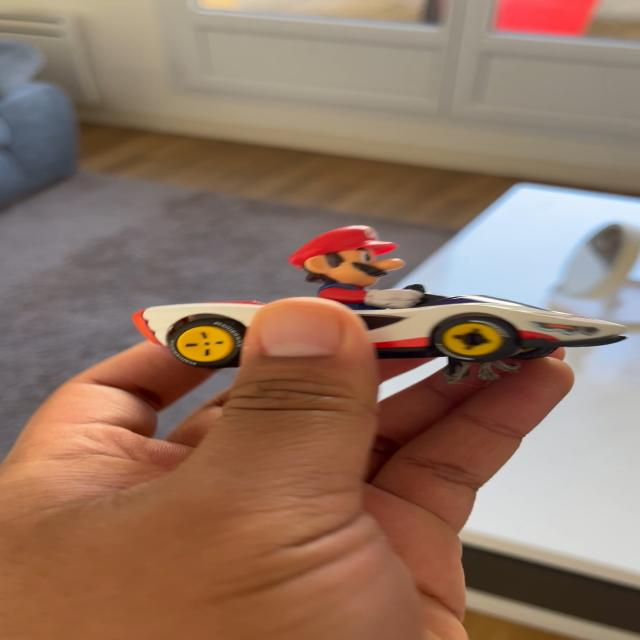mario: (148, 219, 588, 413)
